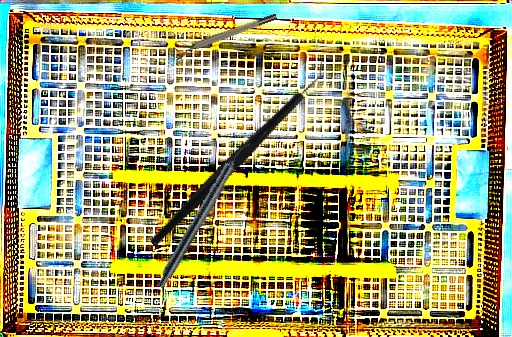Chopper: (109, 52, 367, 249)
Fixation Ring: (172, 11, 280, 61)
Handpiece: (154, 137, 253, 292)
